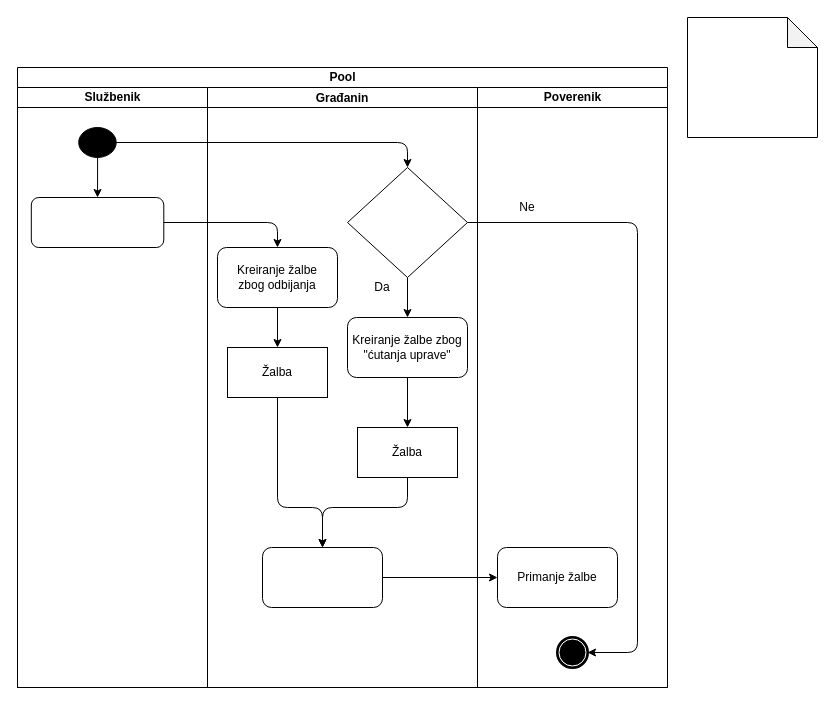
This 835x705 diagram has some shape labels left out. Here are the shapes that lost their labels. From the top down, the centre of each, then its label:
At (x=752, y=77): "Da bi korisnik podneo zalbu mora biti registrovan".
At (x=97, y=222): "Odbijanje zahteva za informacijom od javnog značaja".
At (x=407, y=222): "Odgovor nije stigao u određeno vreme".
At (x=322, y=577): "Slanje žalbe".
